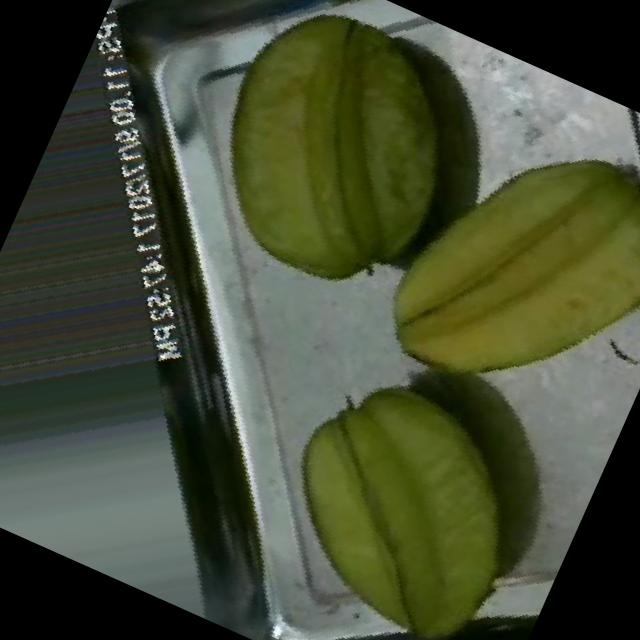fruit: (112, 0, 556, 391), (297, 44, 640, 501), (196, 287, 617, 640)
